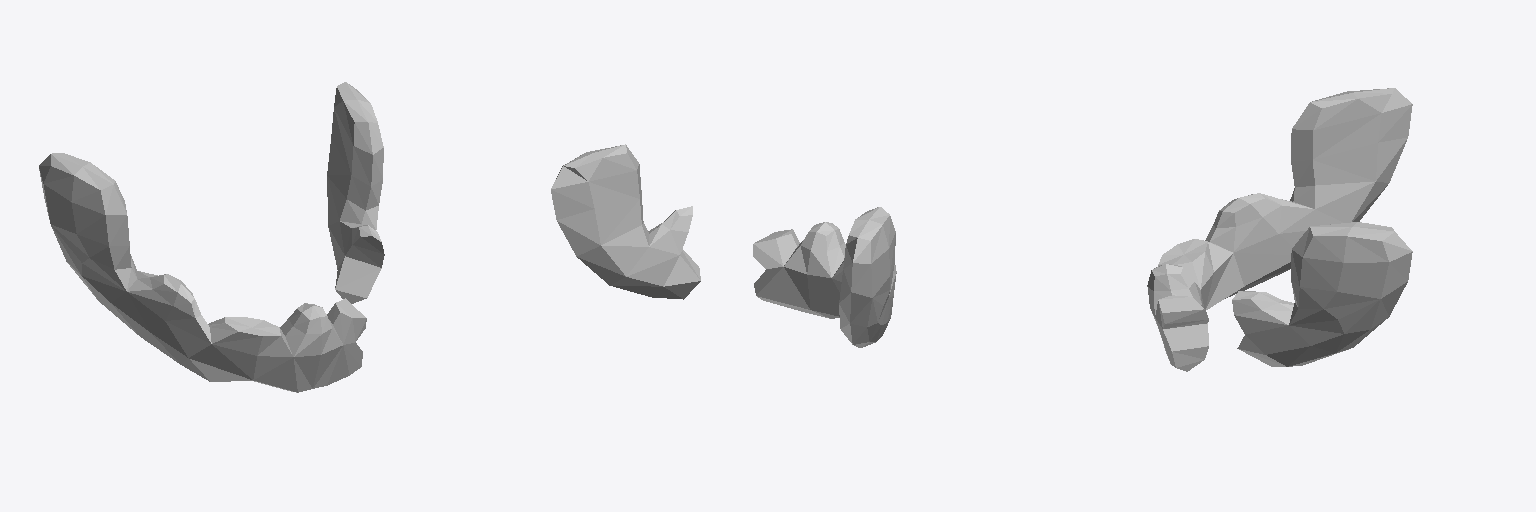
The model's file is jaw_broken.obj.
3 renders of one model, left to right at view 1: azimuth 30°, elevation 25°; view 2: azimuth 150°, elevation 25°; view 3: azimuth 270°, elevation 25°, orthographic.
Parts seen in each view (by area): view 1: jaw_broken_Cube.7713; view 2: jaw_broken_Cube.7713; view 3: jaw_broken_Cube.7713.
Boxes of the visible parts, box(x1,y1,x2,y2) form: jaw_broken_Cube.7713: box(39, 82, 384, 392); jaw_broken_Cube.7713: box(551, 144, 896, 347); jaw_broken_Cube.7713: box(1147, 88, 1412, 371).
Size of the model in its own units: 0.5473 by 0.3191 by 0.3982.